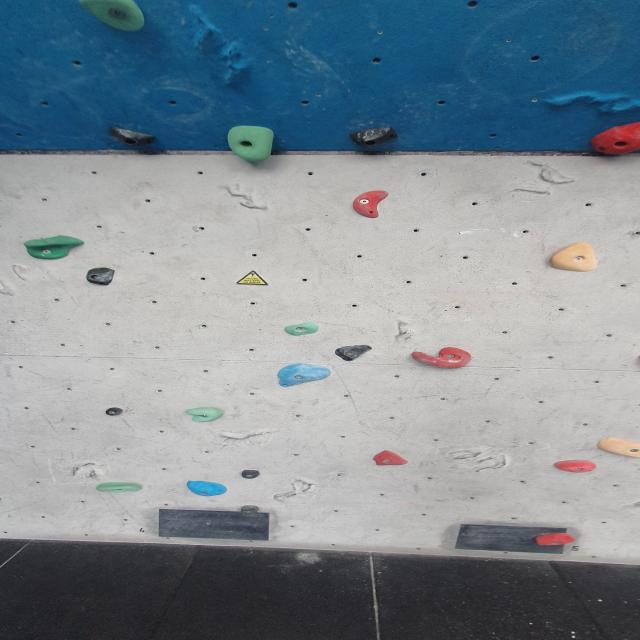Crimp: (275, 363, 334, 386), (596, 438, 640, 461), (330, 343, 373, 362), (552, 458, 600, 475), (532, 530, 576, 548), (184, 480, 228, 498), (82, 268, 120, 288), (369, 451, 411, 467), (282, 322, 322, 336)
Jug: (73, 0, 146, 32), (225, 124, 277, 166), (589, 121, 640, 157), (548, 242, 602, 274), (22, 236, 88, 262), (410, 348, 476, 370), (184, 407, 225, 423), (96, 480, 142, 492)
Pinch: (108, 123, 158, 148), (351, 188, 392, 218), (348, 126, 401, 148), (236, 504, 263, 515), (240, 469, 263, 480), (100, 407, 128, 416)
